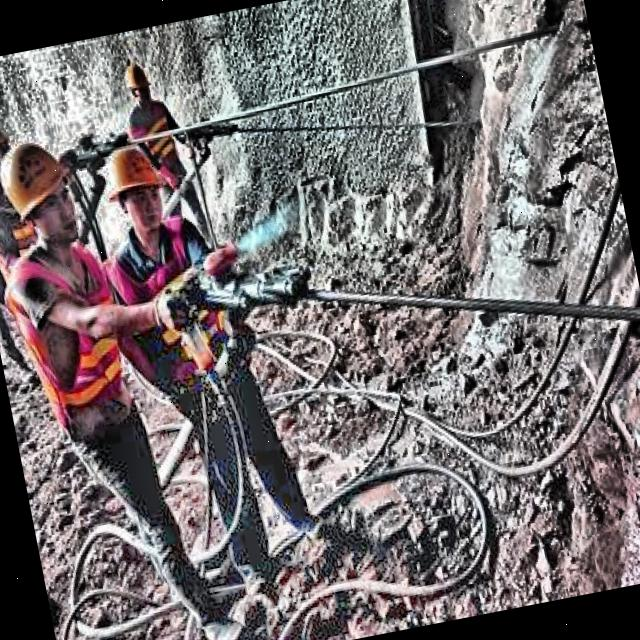helmet: (0, 122, 92, 260), (92, 130, 182, 248), (117, 58, 157, 113), (0, 126, 11, 199)
